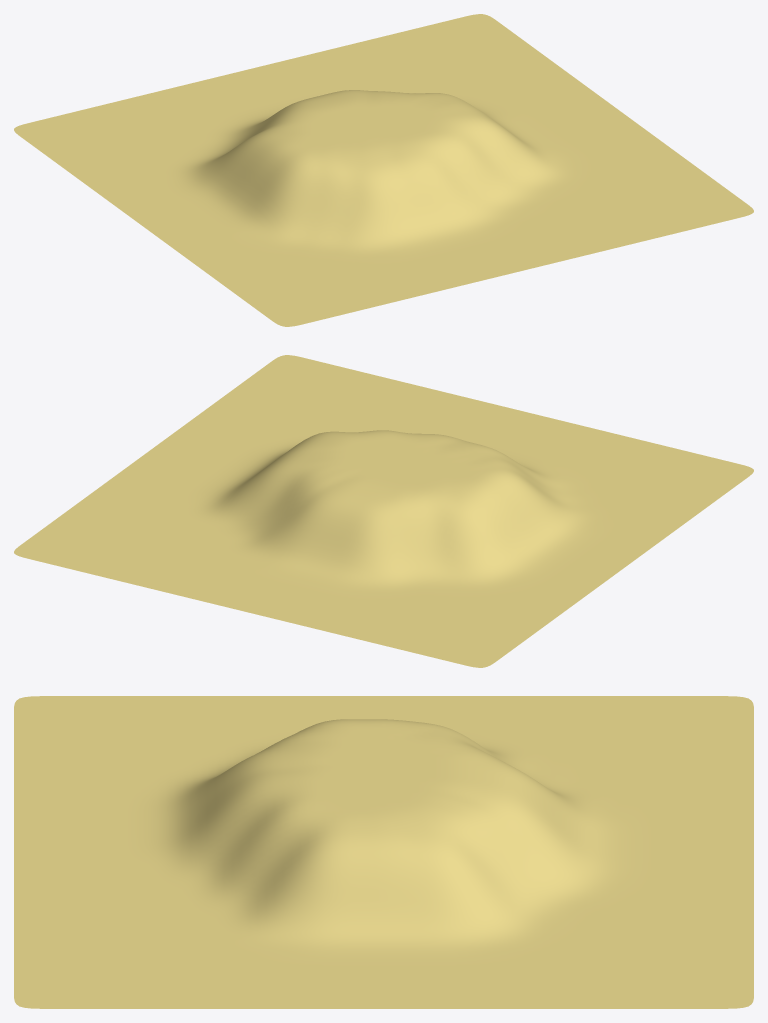
File: island__land.fbx
The picture shows the model from 3 angles, top to bottom: view 1: azimuth 30°, elevation 25°; view 2: azimuth 150°, elevation 25°; view 3: azimuth 270°, elevation 25°; orthographic projection. The views are drawn at different scales.
Parts seen in each view (by area): view 1: Plane; view 2: Plane; view 3: Plane.
Part boxes in pixels (x1,y1,x2,y2): Plane: (14, 14, 753, 326); Plane: (14, 355, 753, 667); Plane: (14, 696, 753, 1008).
Bounding box in the file's own units: 200 × 20.27 × 200.
